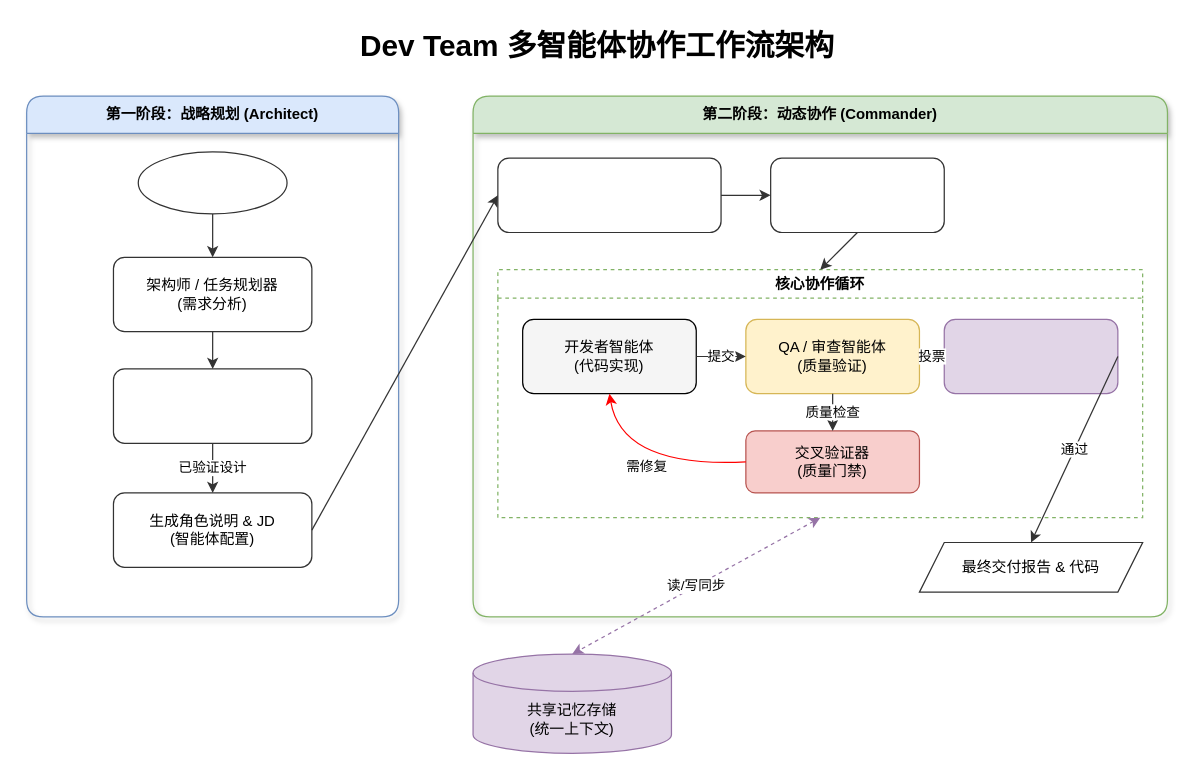
This 1197x775 diagram has some shape labels left out. Here are the shapes that lost their labels. From the top down, the centre of each, then its label:
[212,182]: 用户原始需求
[609,194]: 指挥官初始化 (团队组建)
[856,194]: 智能能力探测
[1030,356]: 共识引擎 (决策中心)
[212,405]: 头脑风暴 & ADR (设计审查)
